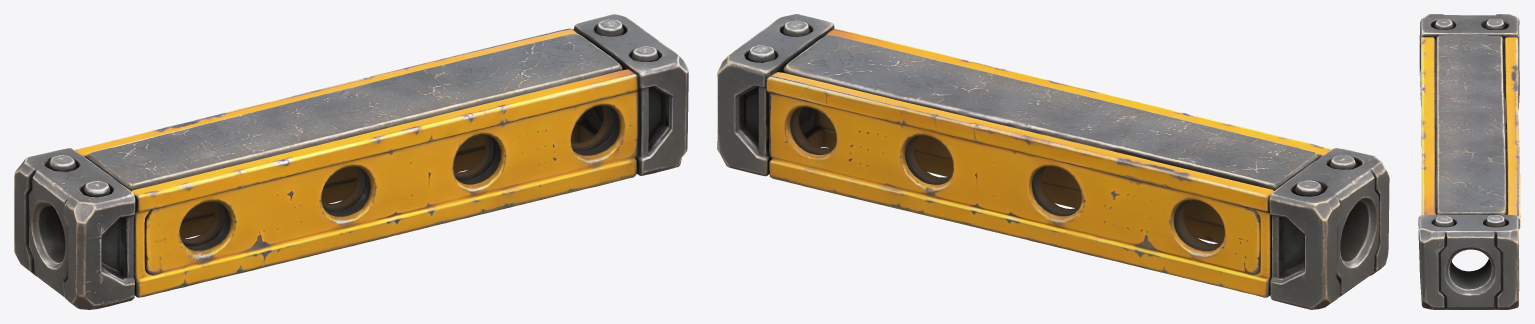
Rendered from base_basic_shaded.glb.
3 views of the same model, side by side, from view 1: azimuth 30°, elevation 25°; view 2: azimuth 150°, elevation 25°; view 3: azimuth 270°, elevation 25° (orthographic). The views are drawn at different scales.
Parts seen in each view (by area): view 1: model; view 2: model; view 3: model.
Part boxes in pixels (box(x1,y1,x2,y2)): model: box(14, 14, 688, 309); model: box(717, 14, 1389, 309); model: box(1418, 14, 1520, 309).
Bounding box in the file's own units: 1.9 × 0.3354 × 0.3712.
Materials: 1 (1 with a texture image).
